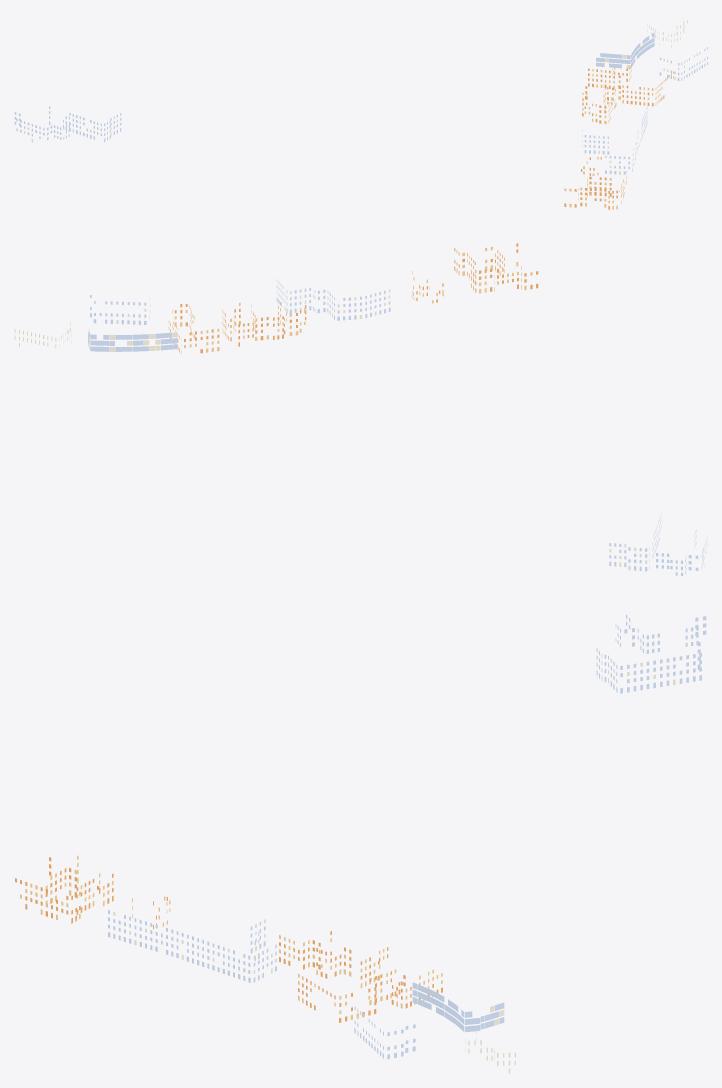
The model's file is buildings-fenway-lights.glb.
3 views of the same model, one above another, from view 1: azimuth 30°, elevation 25°; view 2: azimuth 150°, elevation 25°; view 3: azimuth 270°, elevation 25° (orthographic). The views are drawn at different scales.
Parts seen in each view (by area): view 1: buildings-fenway-lights; view 2: buildings-fenway-lights; view 3: buildings-fenway-lights.
Part boxes in pixels (box(x1,y1,x2,y2)): buildings-fenway-lights: box(14, 20, 707, 209); buildings-fenway-lights: box(14, 243, 707, 575); buildings-fenway-lights: box(15, 614, 706, 1073).
Size of the model in its own units: 455 by 14.11 by 302.
